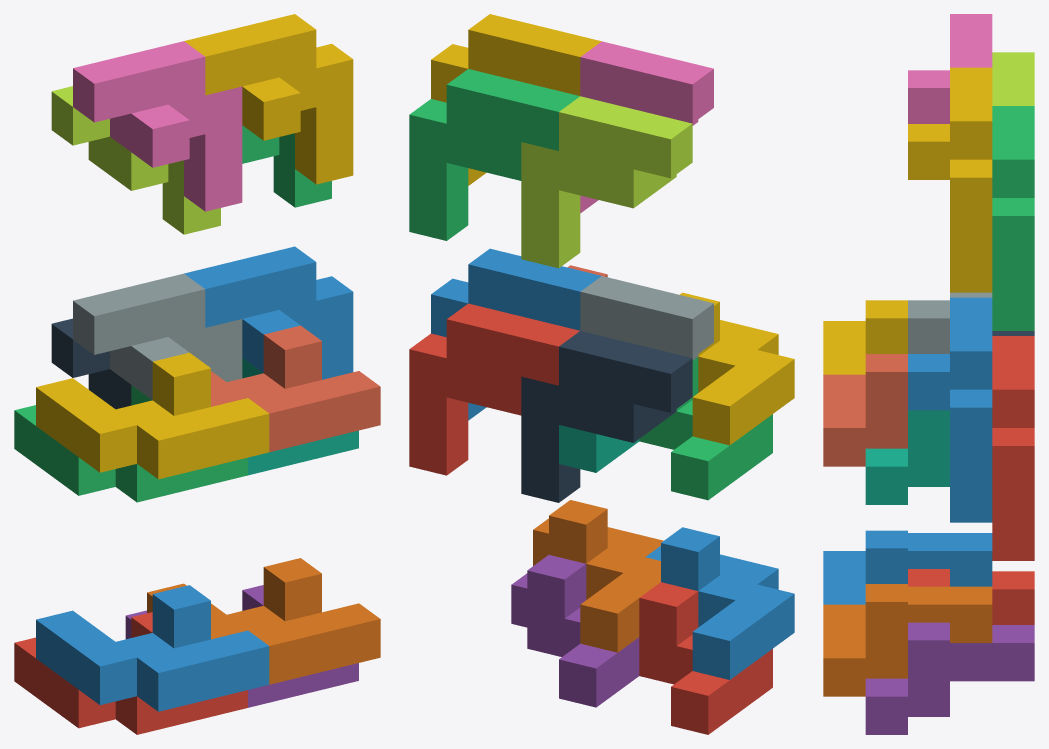
File: tiling.obj
3 renders of one model, left to right at view 1: azimuth 30°, elevation 25°; view 2: azimuth 150°, elevation 25°; view 3: azimuth 270°, elevation 25°, orthographic.
Visible parts, largest first — view 1: copy_2_domain_4, copy_1_domain_2, copy_1_domain_4, copy_2_domain_8, copy_2_domain_2, copy_2_domain_6, copy_1_domain_6, copy_1_domain_8, copy_1_domain_1, copy_1_domain_3, copy_2_domain_3, copy_2_domain_1 (+3 smaller); view 2: copy_2_domain_3, copy_2_domain_1, copy_2_domain_5, copy_2_domain_7, copy_1_domain_2, copy_1_domain_6, copy_1_domain_1, copy_1_domain_5, copy_1_domain_4, copy_2_domain_8, copy_2_domain_6, copy_2_domain_4 (+3 smaller); view 3: copy_2_domain_6, copy_2_domain_8, copy_1_domain_6, copy_1_domain_5, copy_2_domain_5, copy_2_domain_7, copy_1_domain_2, copy_1_domain_8, copy_1_domain_7, copy_1_domain_4, copy_2_domain_4, copy_1_domain_1 (+2 smaller).
Part boxes in pixels (x1,y1,x2,y2): copy_2_domain_4: (73, 41, 242, 211); copy_1_domain_2: (36, 585, 269, 711); copy_1_domain_4: (36, 352, 269, 479); copy_2_domain_8: (184, 14, 353, 184); copy_2_domain_2: (73, 273, 242, 399); copy_2_domain_6: (184, 246, 353, 379); copy_1_domain_6: (147, 558, 380, 684); copy_1_domain_8: (211, 325, 380, 452); copy_1_domain_1: (14, 612, 247, 734); copy_1_domain_3: (14, 385, 247, 502); copy_2_domain_3: (51, 86, 220, 234); copy_2_domain_1: (51, 318, 131, 409); copy_2_domain_3: (521, 96, 692, 268); copy_2_domain_1: (521, 331, 692, 502); copy_2_domain_5: (409, 303, 579, 475); copy_2_domain_7: (409, 69, 579, 240); copy_1_domain_2: (645, 527, 794, 679); copy_1_domain_6: (533, 500, 663, 652); copy_1_domain_1: (639, 582, 772, 734); copy_1_domain_5: (511, 555, 639, 707); copy_1_domain_4: (679, 292, 794, 445); copy_2_domain_8: (431, 14, 601, 185); copy_2_domain_6: (431, 248, 601, 420); copy_2_domain_4: (580, 41, 713, 213); copy_2_domain_6: (908, 297, 992, 522); copy_2_domain_8: (908, 67, 992, 292); copy_1_domain_6: (823, 584, 992, 696); copy_1_domain_5: (865, 622, 1034, 734); copy_2_domain_5: (992, 336, 1034, 560); copy_2_domain_7: (992, 106, 1034, 330); copy_1_domain_2: (823, 530, 992, 604); copy_1_domain_8: (823, 354, 907, 466); copy_1_domain_7: (865, 410, 949, 504); copy_1_domain_4: (823, 300, 907, 374); copy_2_domain_4: (908, 14, 992, 123); copy_1_domain_1: (908, 569, 1034, 624).
Bounding box in the file's own units: 8 × 16 × 5.
